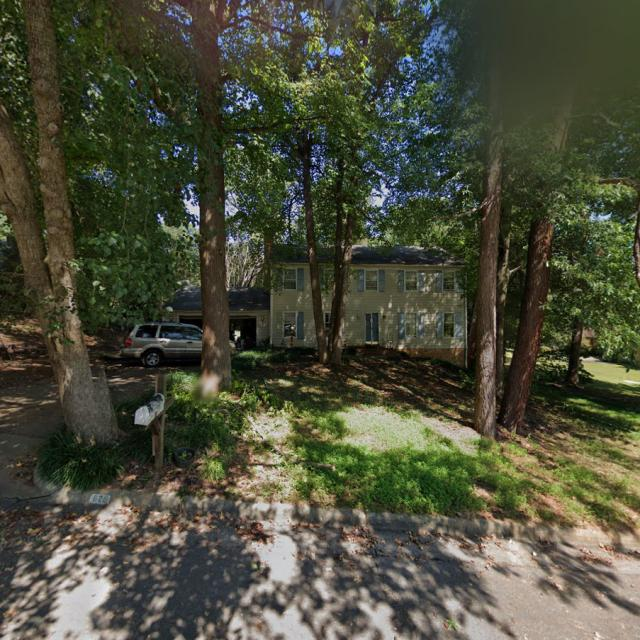House: (162, 228, 469, 368)
